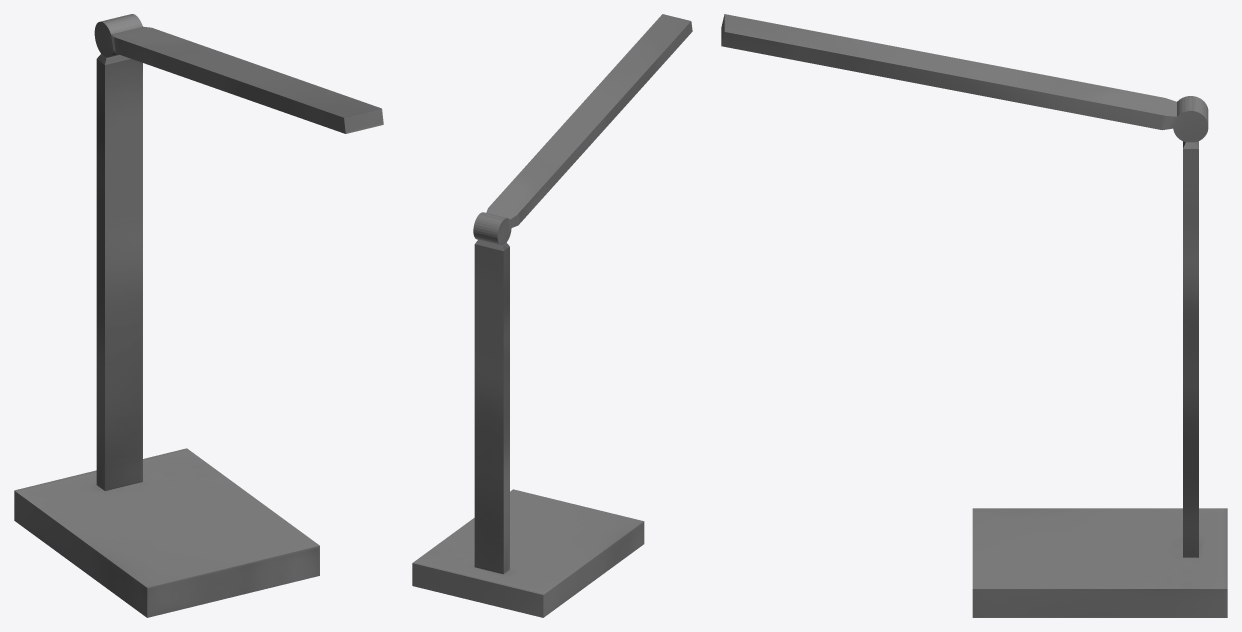
Rendered from lampe.gltf.
3 views of the same model, side by side, from view 1: azimuth 30°, elevation 25°; view 2: azimuth 150°, elevation 25°; view 3: azimuth 270°, elevation 25° (orthographic). The views are drawn at different scales.
Parts seen in each view (by area): view 1: Lamp.001; view 2: Lamp.001; view 3: Lamp.001.
Part boxes in pixels (x1,y1,x2,y2): Lamp.001: (14, 14, 383, 617); Lamp.001: (412, 14, 692, 617); Lamp.001: (721, 14, 1227, 617).
Bounding box in the file's own units: 0.12 × 0.3838 × 0.3177.
2 materials, 1 textured.
